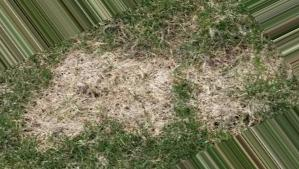patch: (90, 67, 166, 117), (27, 105, 71, 129), (64, 78, 87, 101), (203, 95, 224, 113)
